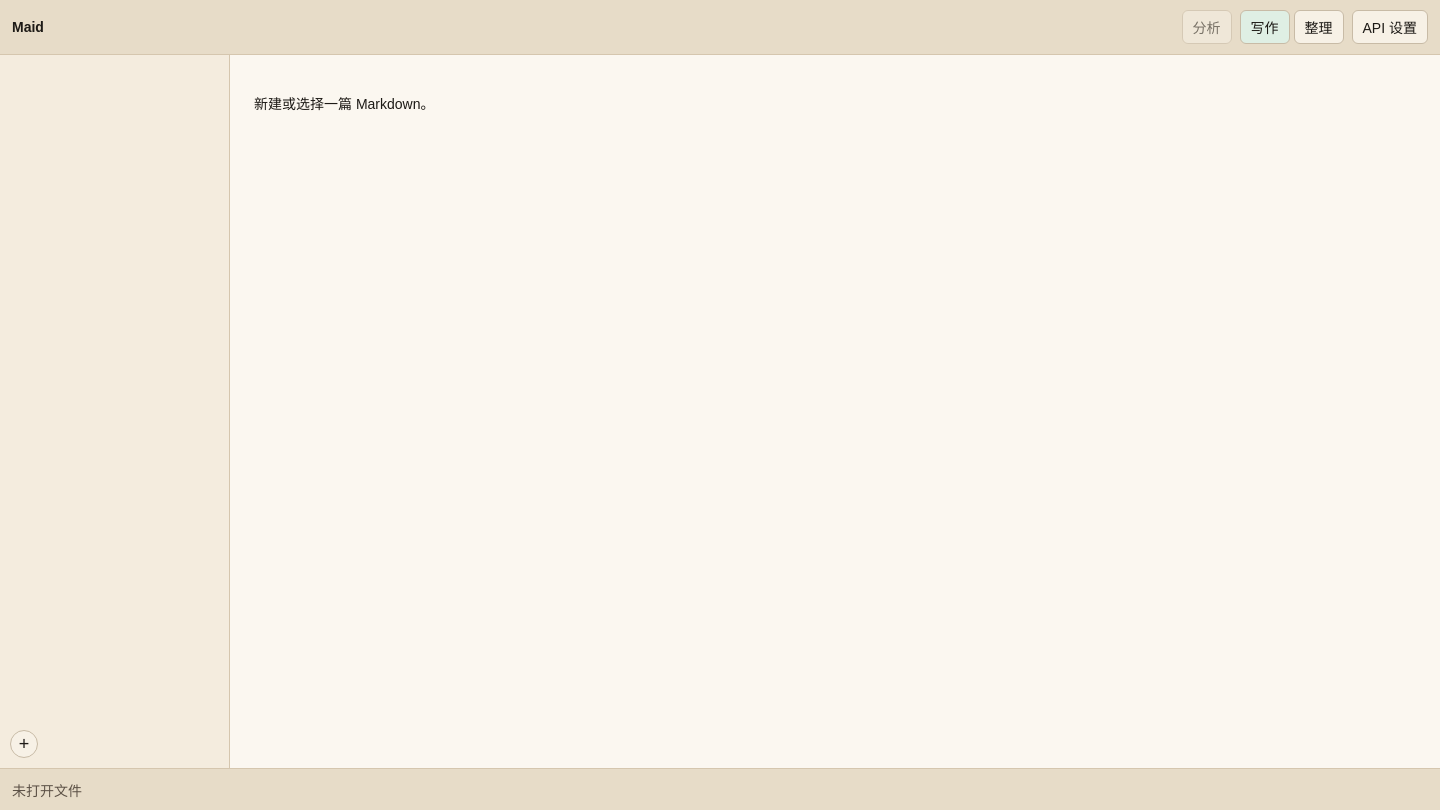
it: 界面故事 › SR-05 标签筛选项固定为九个阶段
The width and height of the screenshot is (1440, 810).
What coordinates should you click on to do the following:
click the button "整理"
I would click on:
 (1318, 27)
Its box is [1294,10,1344,44].
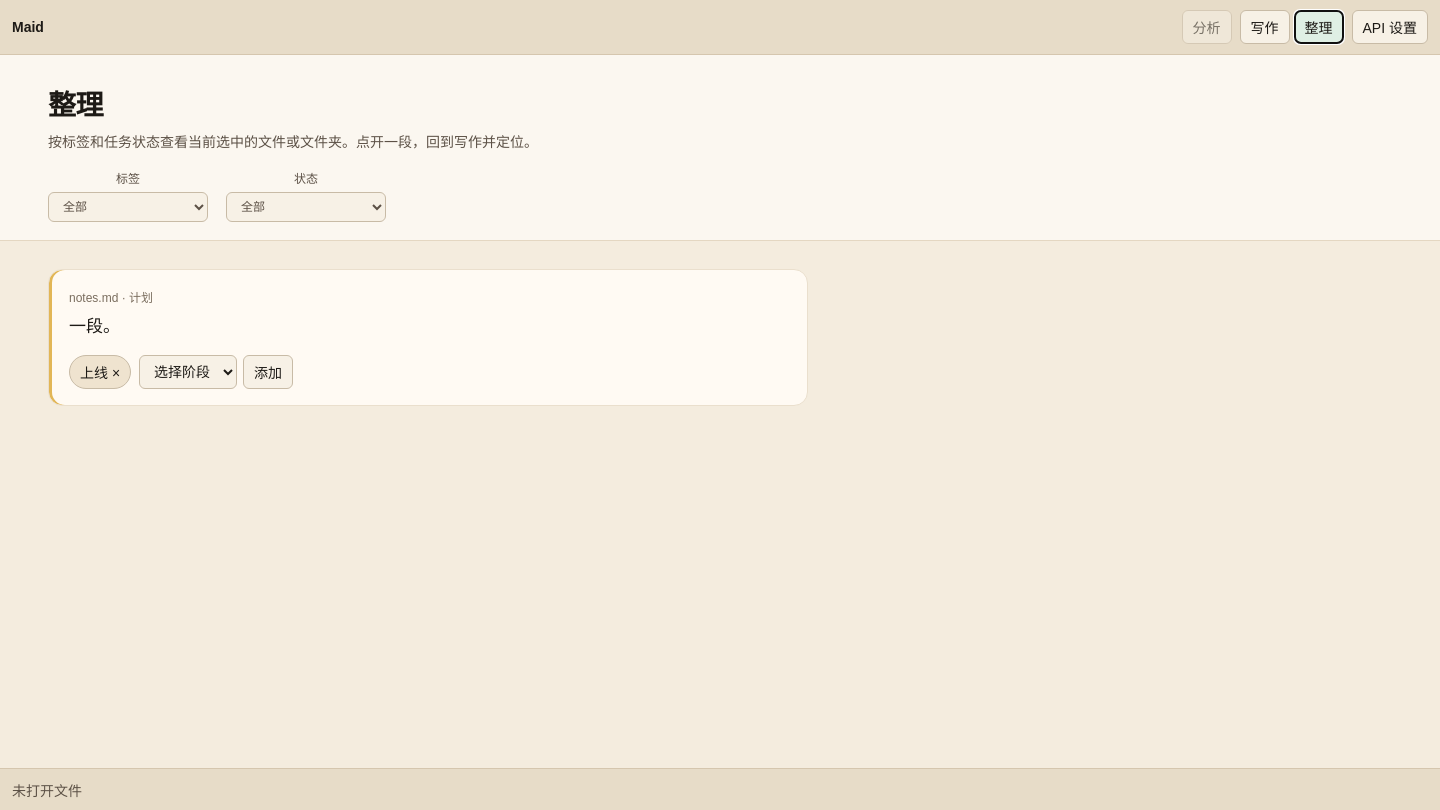
Result: the heading "整理" is shown at [48,90,103,121]
